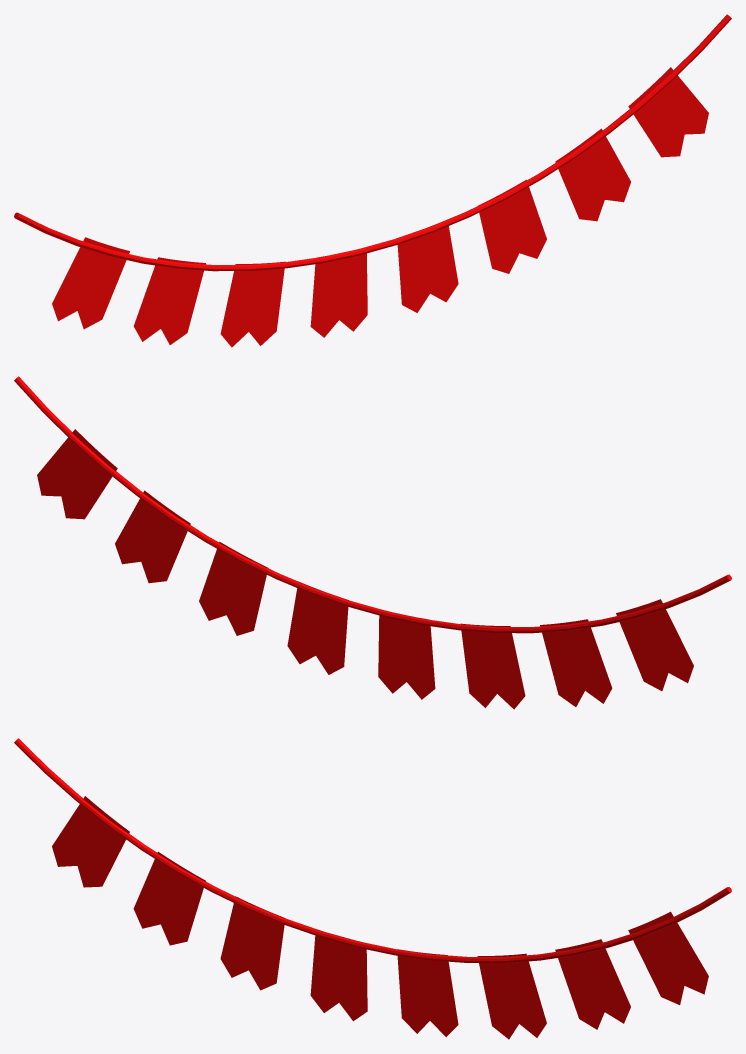
File: Garland2.fbx
The picture shows the model from 3 angles, top to bottom: view 1: azimuth 30°, elevation 25°; view 2: azimuth 150°, elevation 25°; view 3: azimuth 330°, elevation 25°; orthographic projection.
Parts seen in each view (by area): view 1: Garland2; view 2: Garland2; view 3: Garland2.
Boxes of the visible parts, box(x1,y1,x2,y2) form: Garland2: box(14, 14, 731, 347); Garland2: box(14, 376, 731, 709); Garland2: box(14, 738, 731, 1039).
Bounding box in the file's own units: 498 × 150 × 4.
